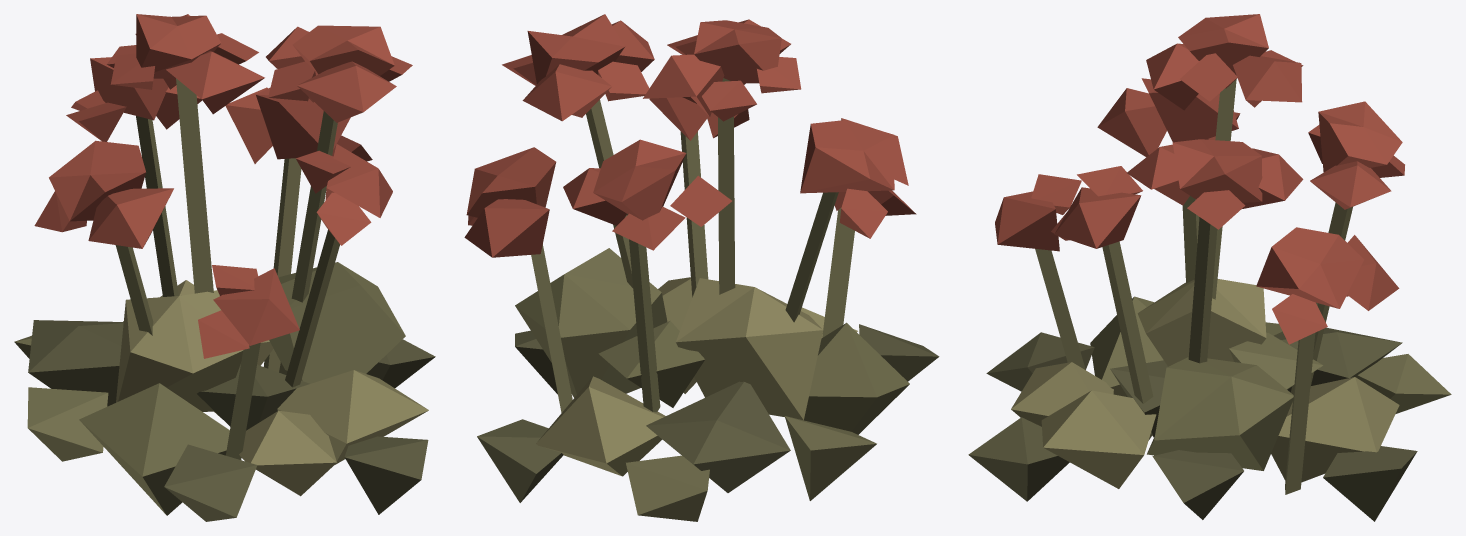
File: SM_Env_Flowers_02.fbx
3 renders of one model, left to right at view 1: azimuth 30°, elevation 25°; view 2: azimuth 150°, elevation 25°; view 3: azimuth 270°, elevation 25°, orthographic. The views are drawn at different scales.
Visible parts, largest first — view 1: SM_Env_Flowers_02; view 2: SM_Env_Flowers_02; view 3: SM_Env_Flowers_02.
Part boxes in pixels (x1=…): SM_Env_Flowers_02: x1=14, y1=14, x2=435, y2=521; SM_Env_Flowers_02: x1=464, y1=14, x2=939, y2=521; SM_Env_Flowers_02: x1=968, y1=14, x2=1451, y2=521.
Size of the model in its own units: 116 by 131 by 131.
